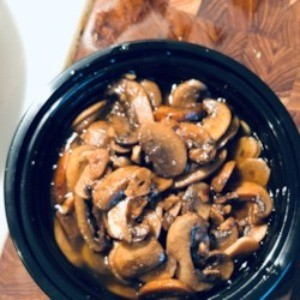mushroom_brain food: (97, 151, 229, 232)
